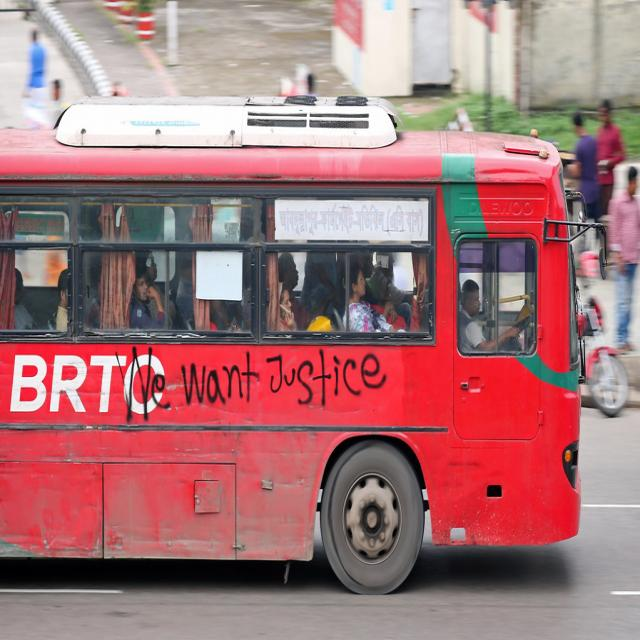bus: (1, 94, 609, 595)
